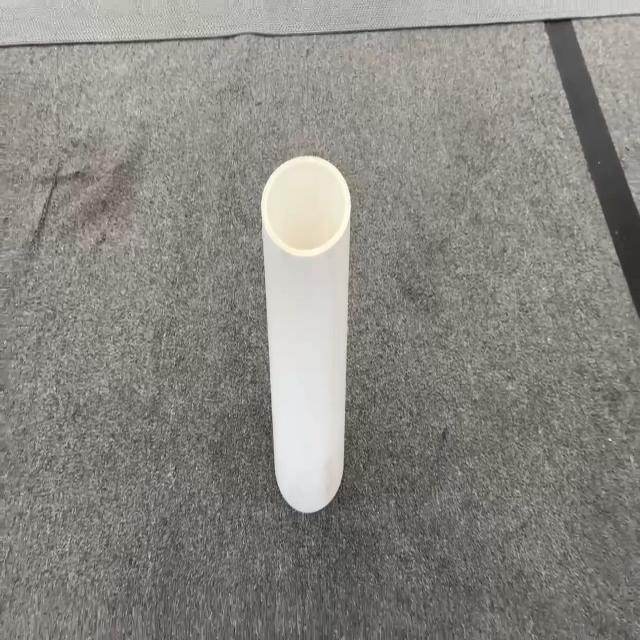coral: (260, 153, 352, 513)
